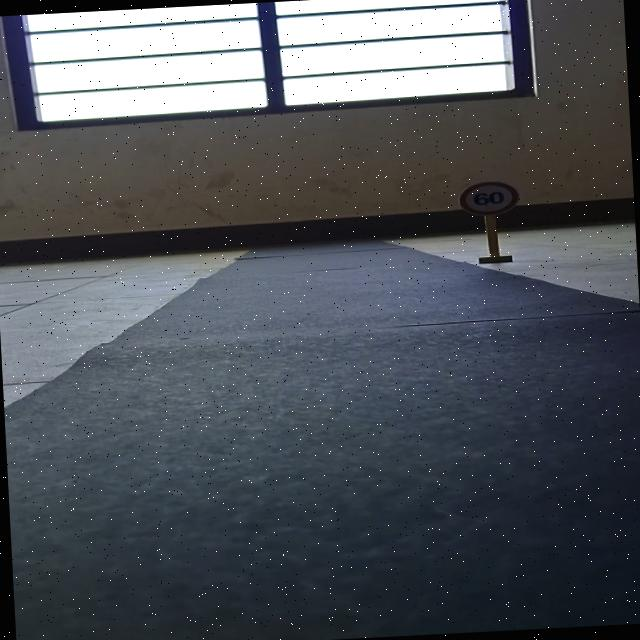Speed60: (457, 180, 522, 220)
